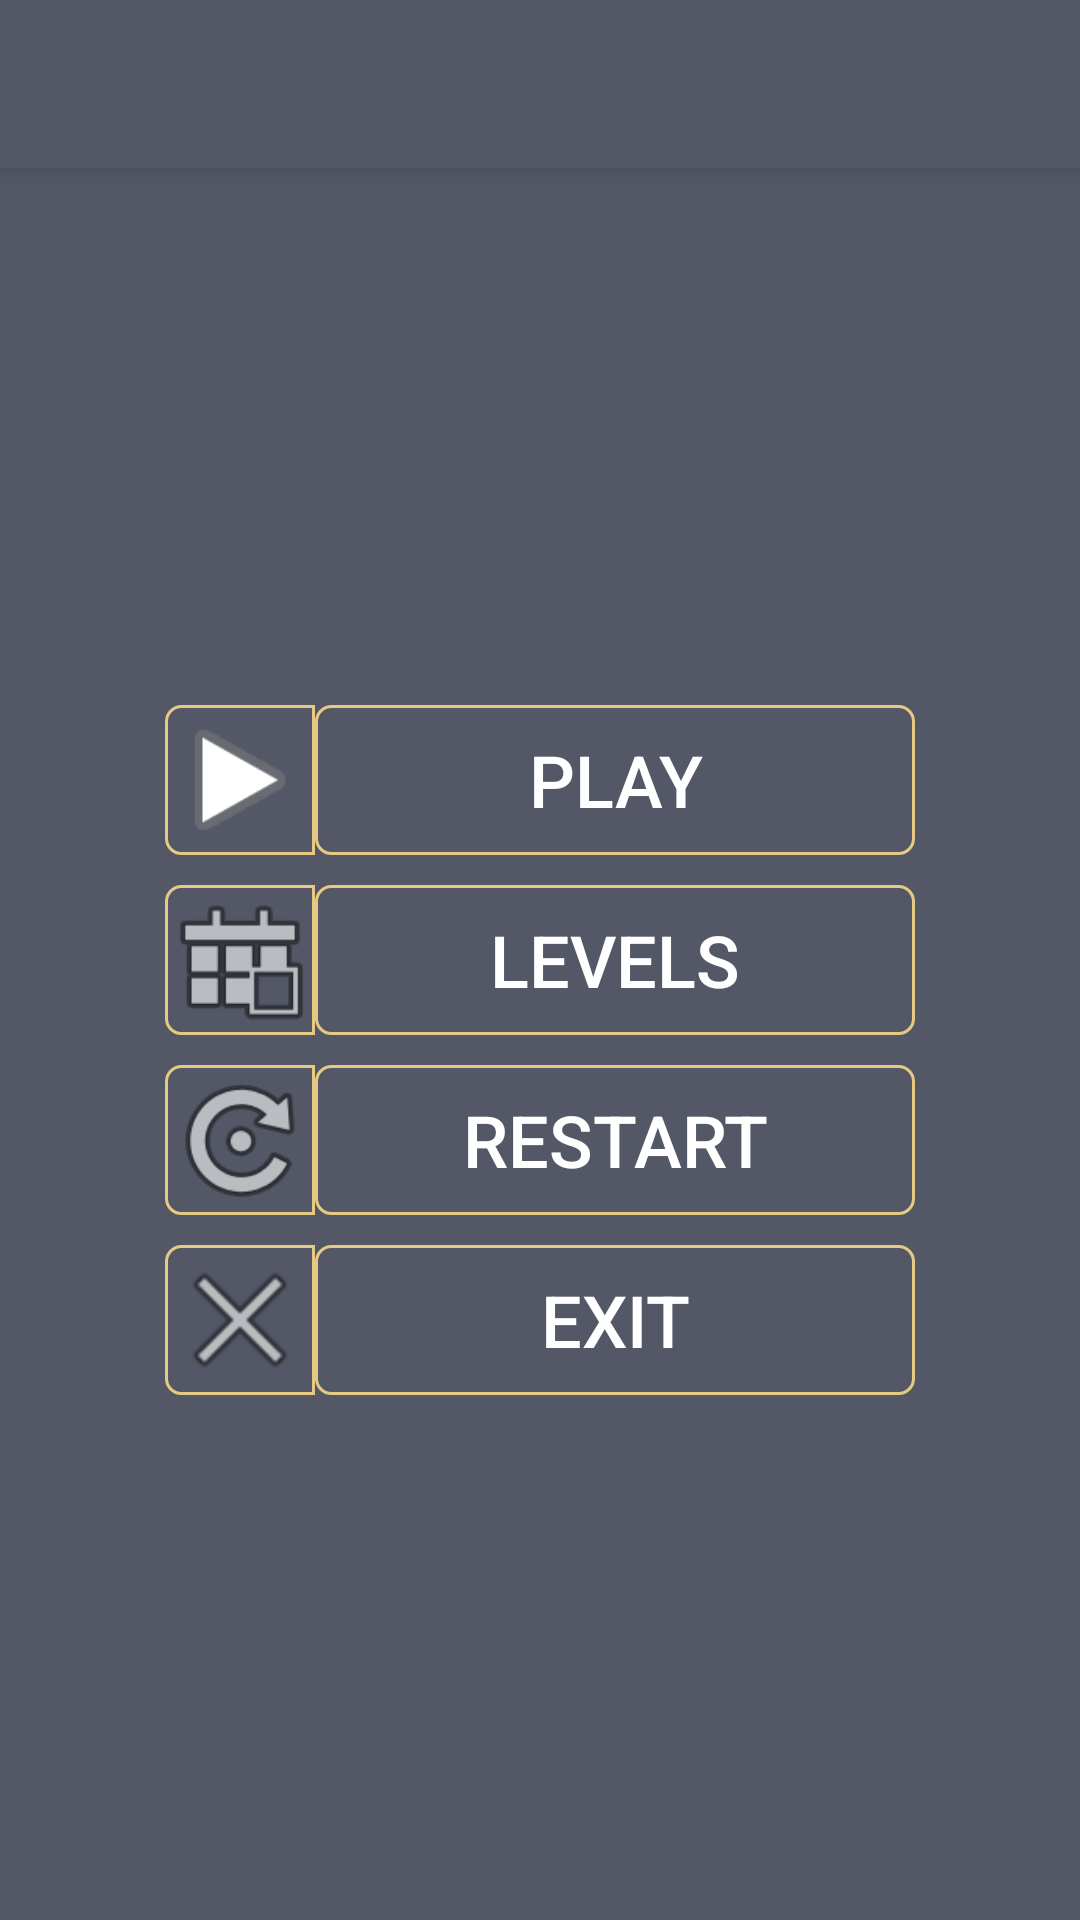

Where to tap for icons on this 1080 × 1920 app screen, as [x,y]:
close clear cancel: [240,1320]
rotate: [240,1140]
today: [241,962]
